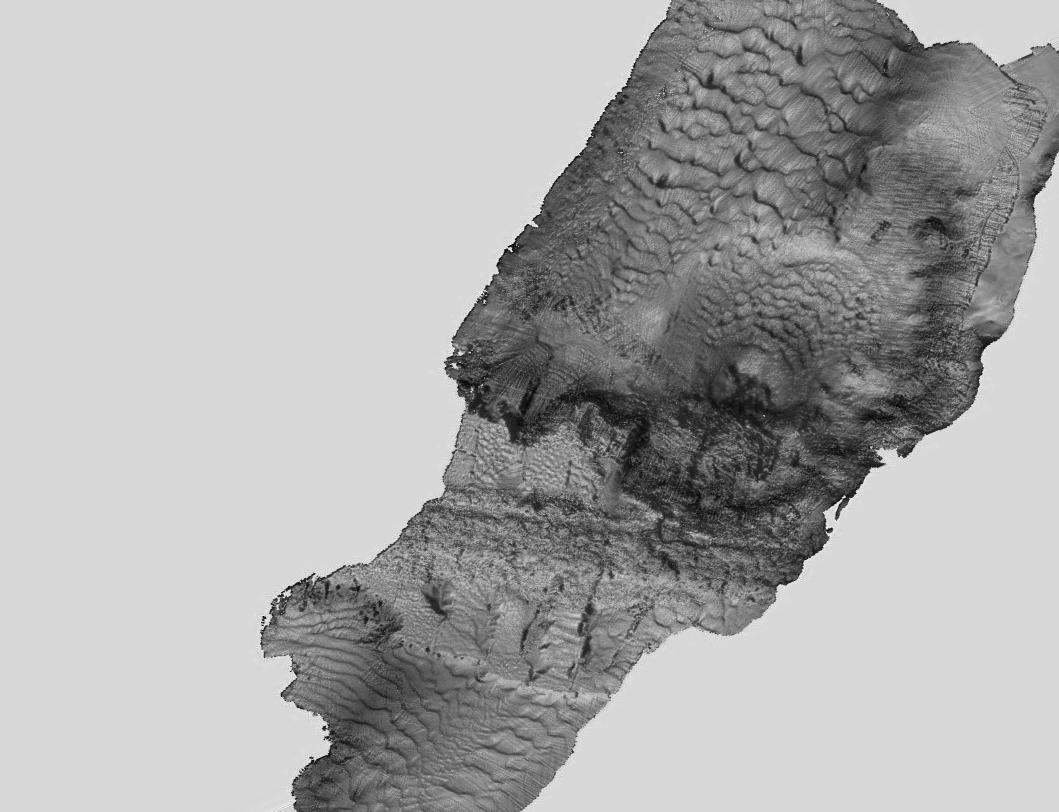Dune: (244, 662, 697, 795), (675, 6, 867, 229), (642, 141, 739, 282), (732, 266, 849, 349)
Scarp: (877, 317, 1059, 513), (776, 426, 956, 562)
Scour pit: (692, 340, 849, 452)
Submerged dike: (389, 487, 899, 648)
